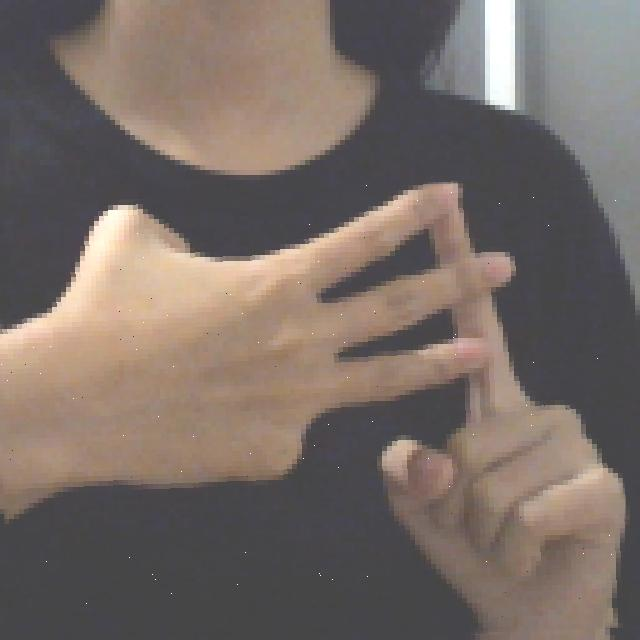B: (0, 182, 625, 633)
